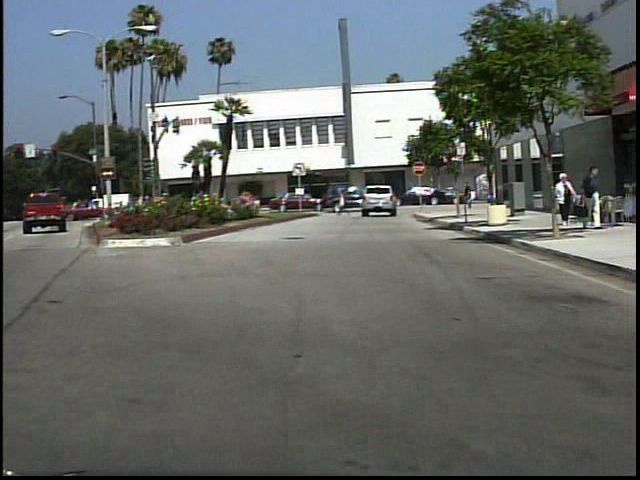person: (581, 163, 606, 232), (553, 173, 577, 227), (616, 174, 639, 223), (336, 186, 352, 218), (465, 180, 478, 213)
